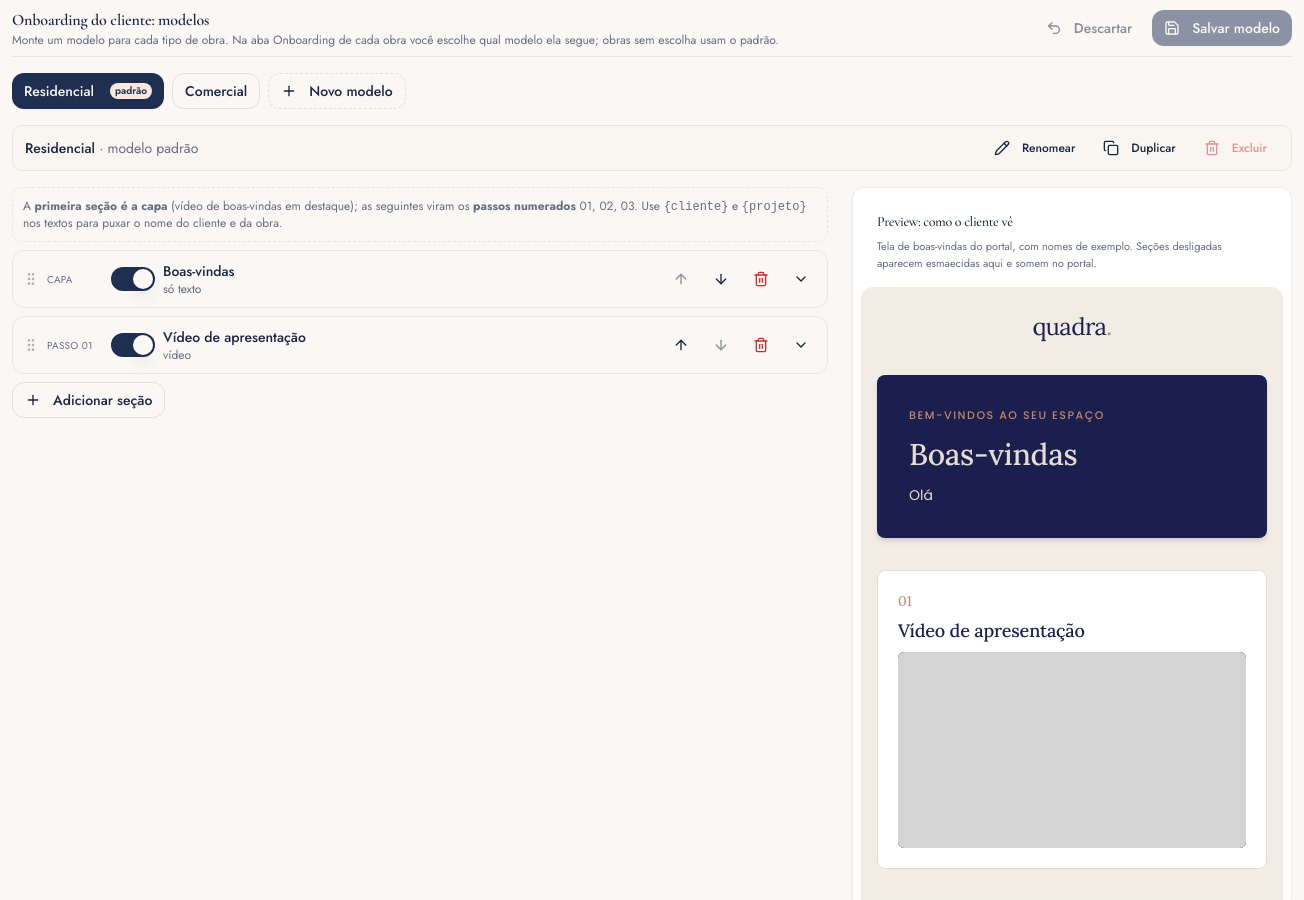
Configurações → Onboarding (modelos) › trocar de modelo mostra as seções dele
The image size is (1304, 900).
Click the tab "Comercial": [216, 91] box [172,73,260,109]
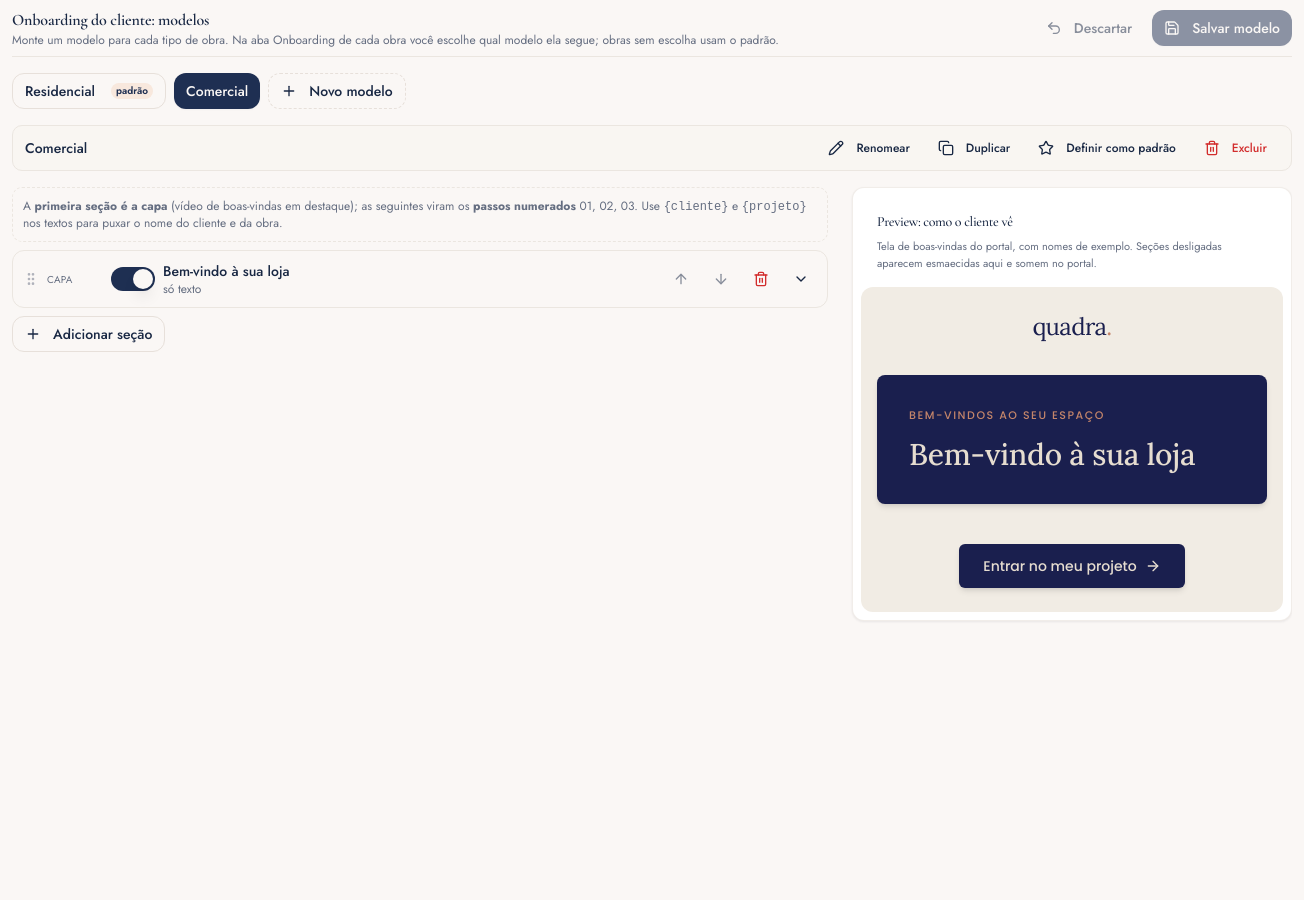
Check: the button "Definir como padrão" is shown, box [1026,134,1188,162]
